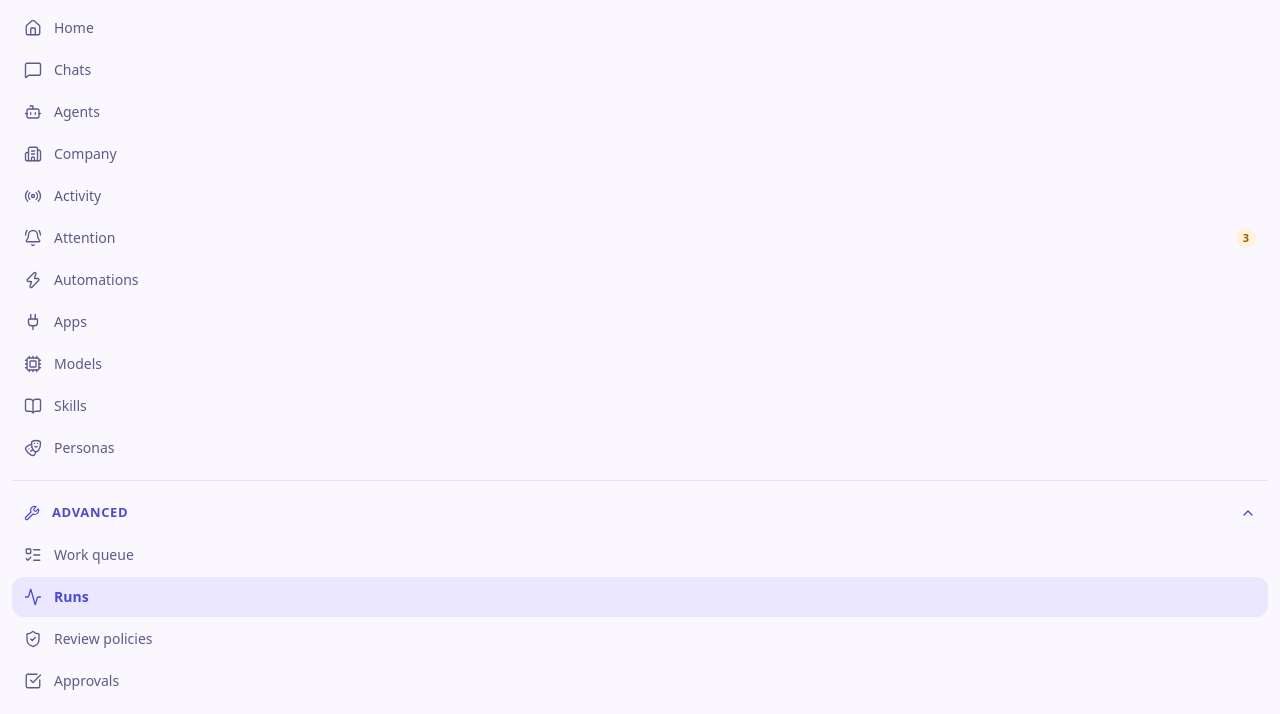
it: SidebarNav › opens automatically on an Advanced page and remembers the choice
Expected: the link "Work queue" is shown, 24,545 -> 134,564
Expected: the link "Runs" is shown, 12,577 -> 1268,617
Click the button "Advanced": (90, 512) 12,493 -> 1268,533
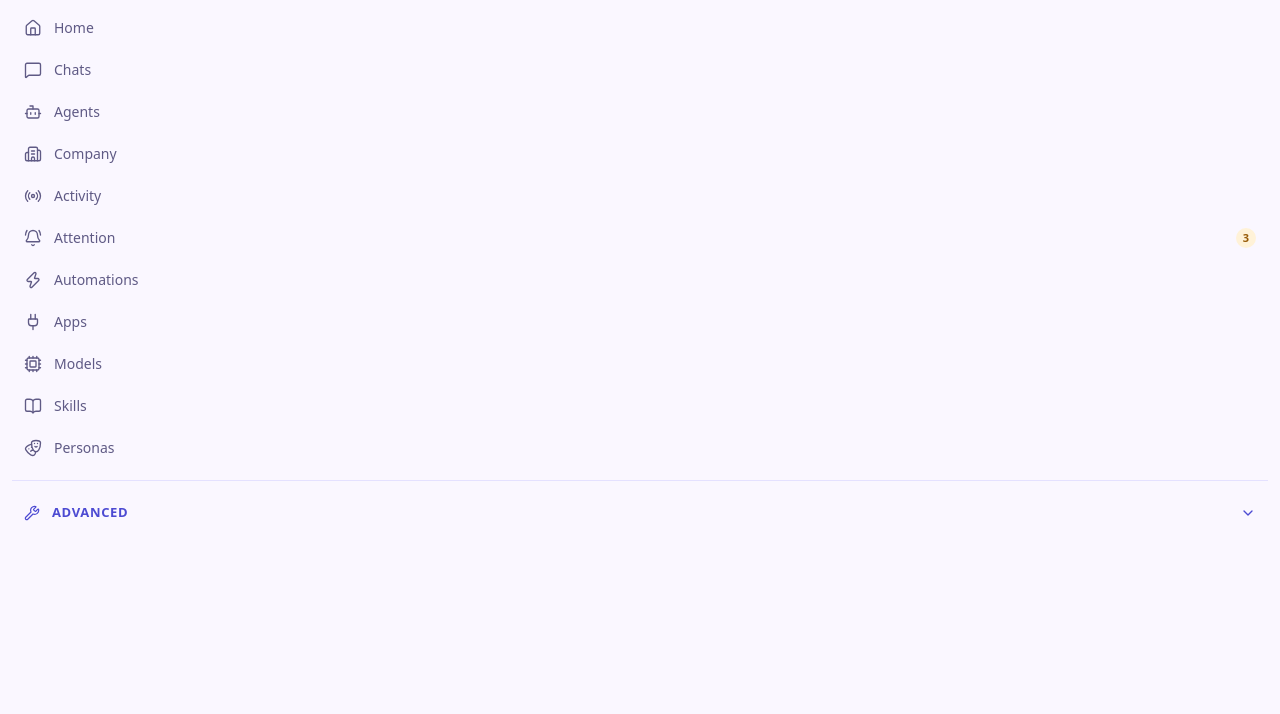
Now the link "Work queue" is gone
